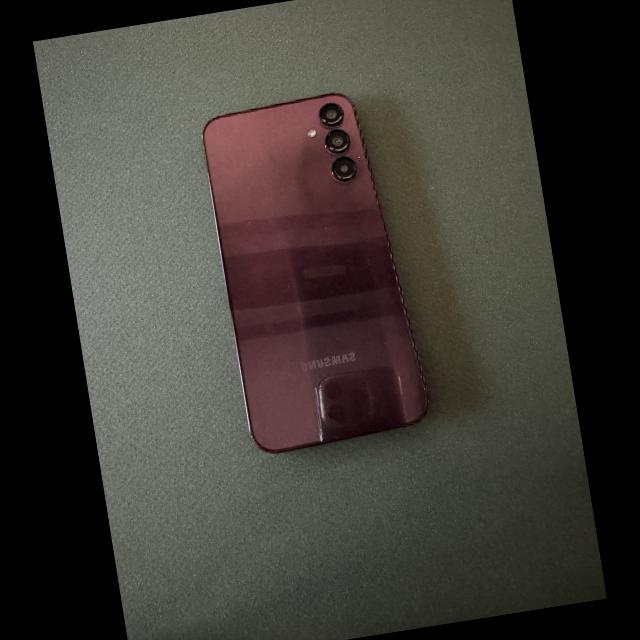lens: (330, 157, 356, 182), (318, 103, 343, 127), (324, 130, 349, 153)
phone: (203, 94, 428, 452)
